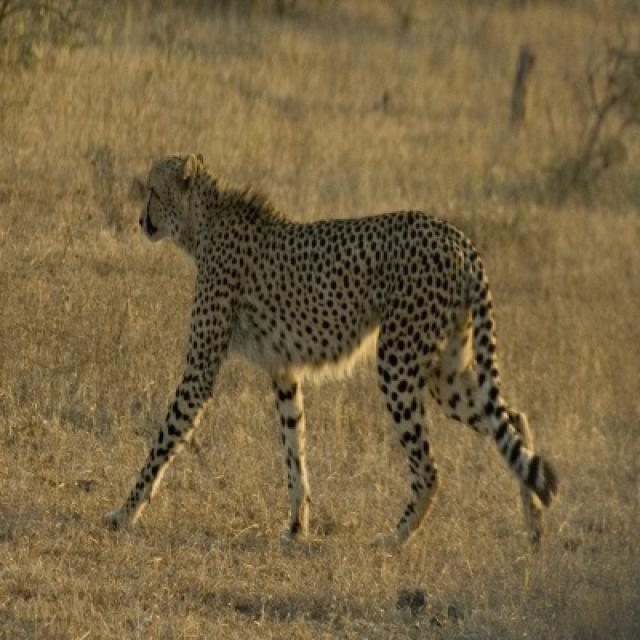Cheetah: (103, 161, 560, 560)
